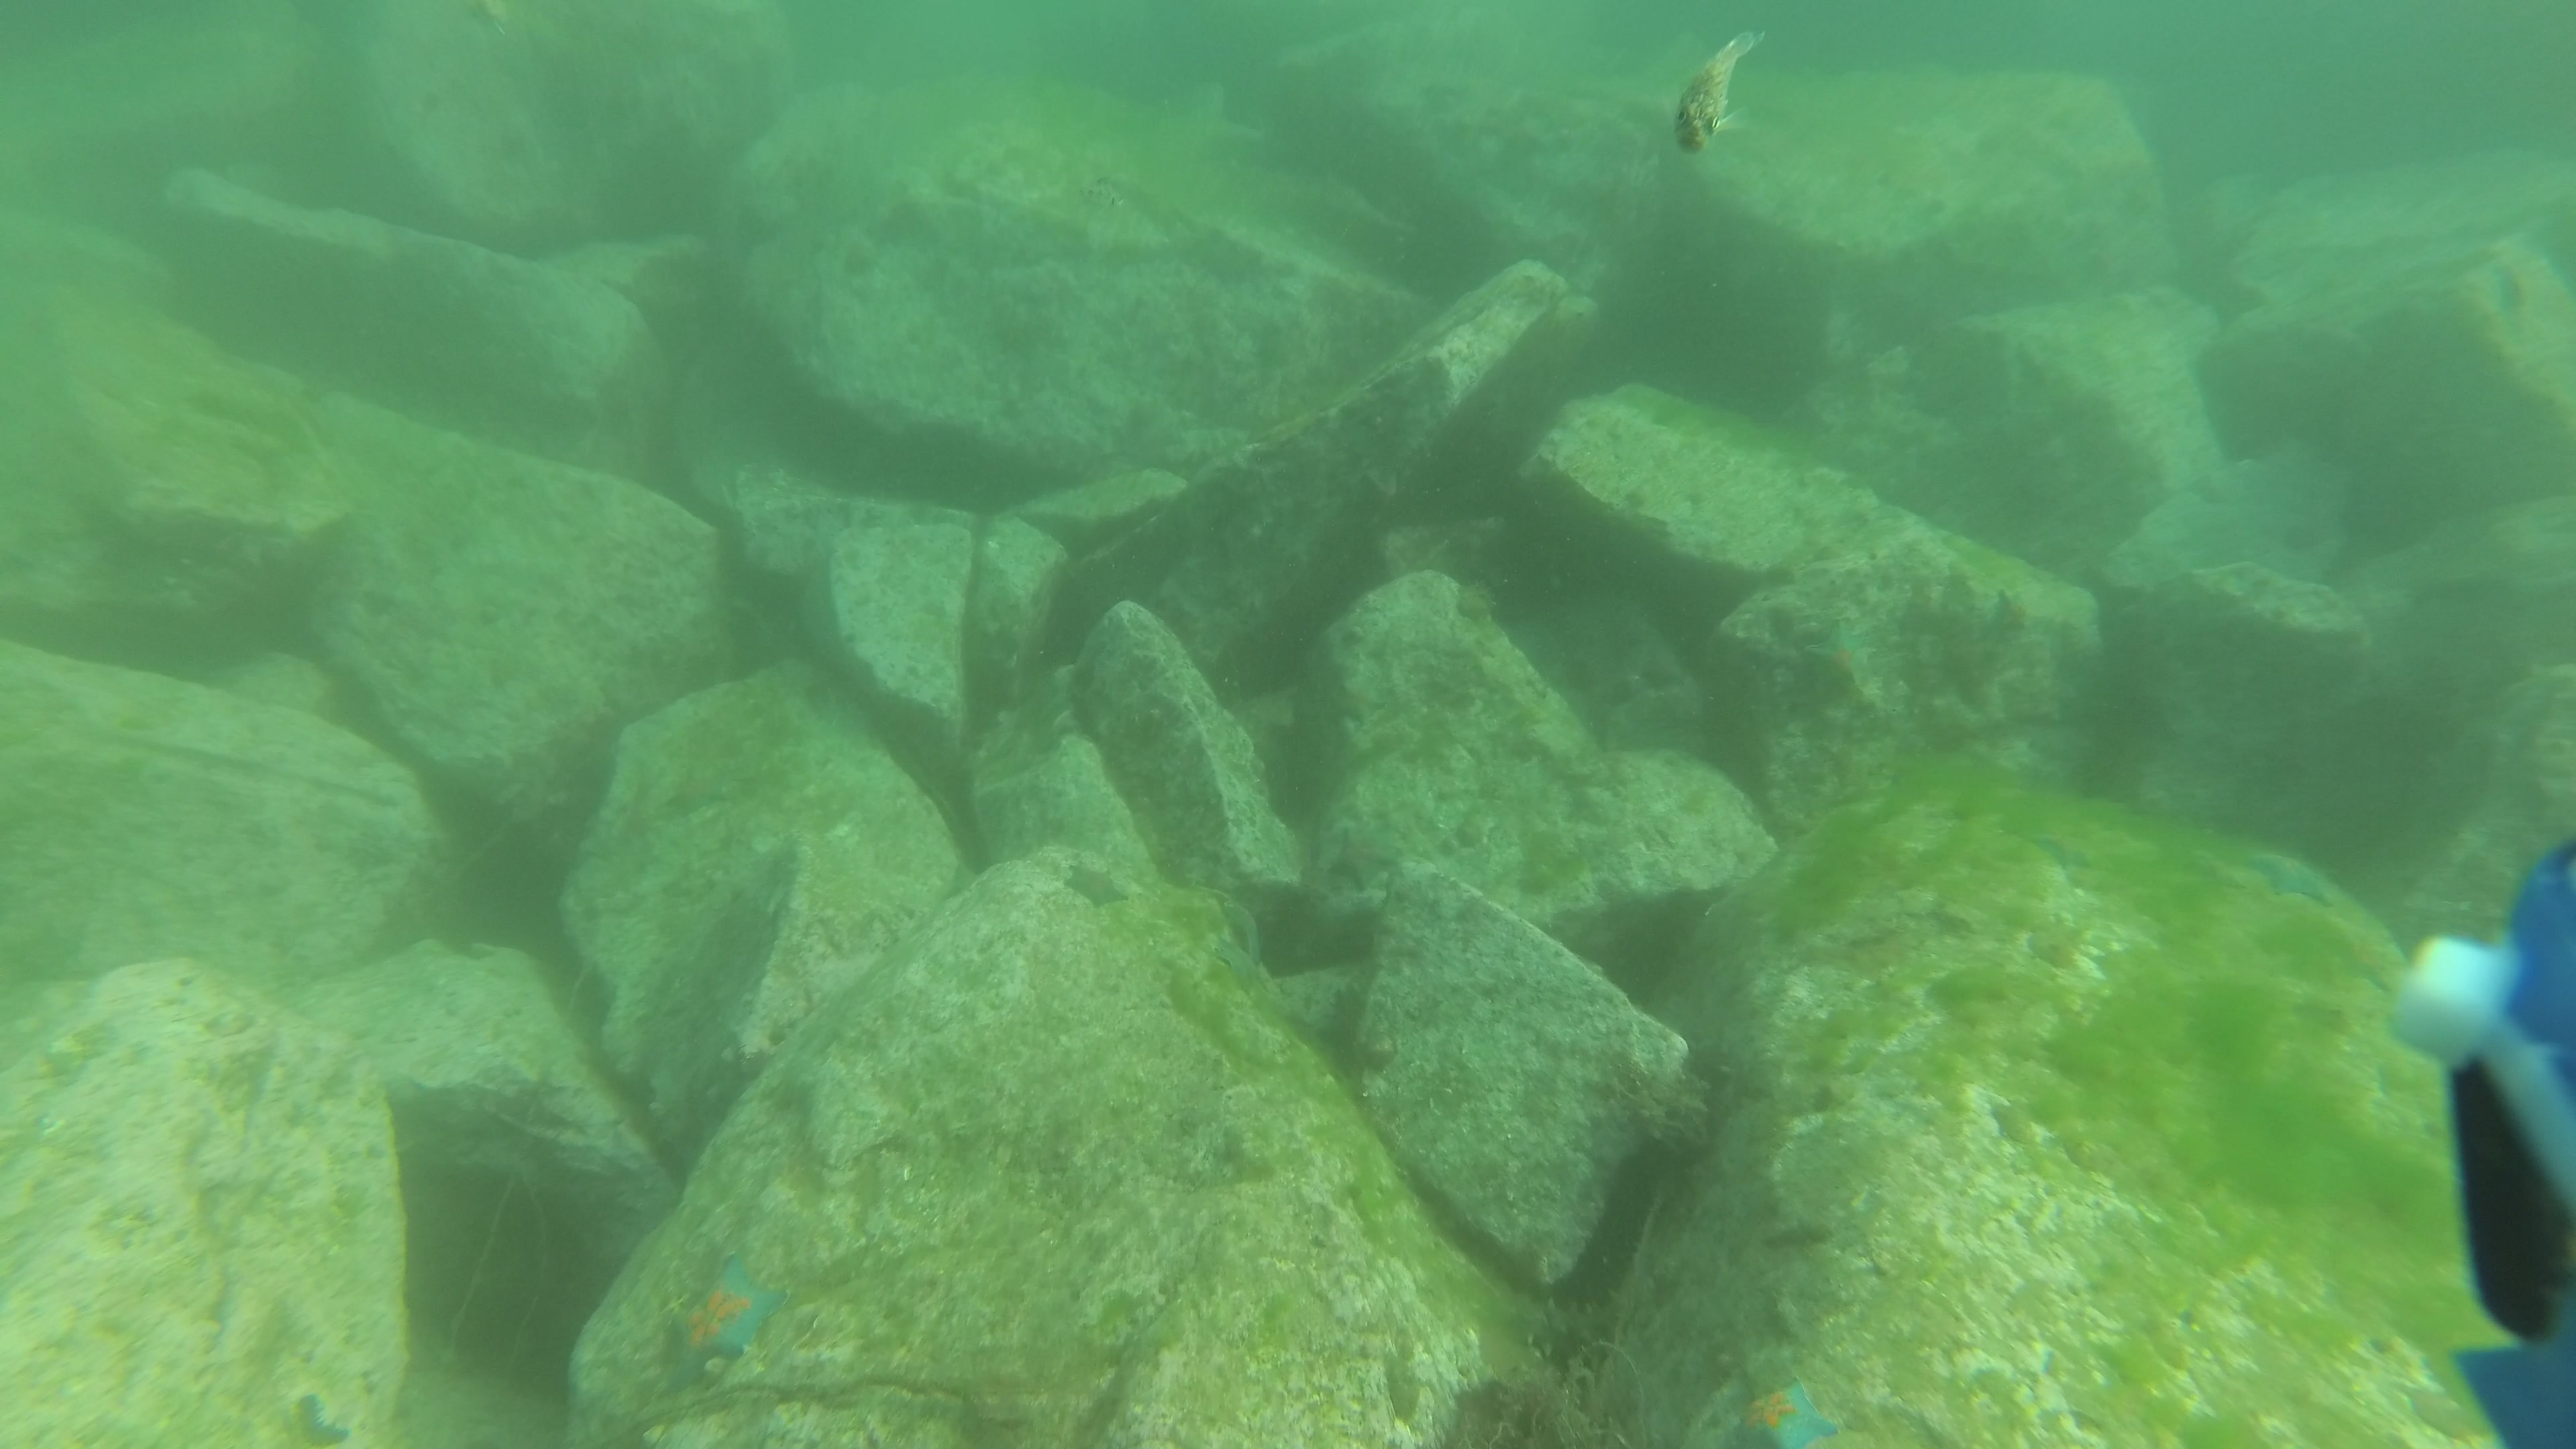starfish: (663, 1249, 791, 1376), (1725, 1368, 1845, 1449), (1798, 612, 1888, 706), (2231, 844, 2346, 908), (1060, 855, 1132, 913), (1210, 927, 1269, 996)
